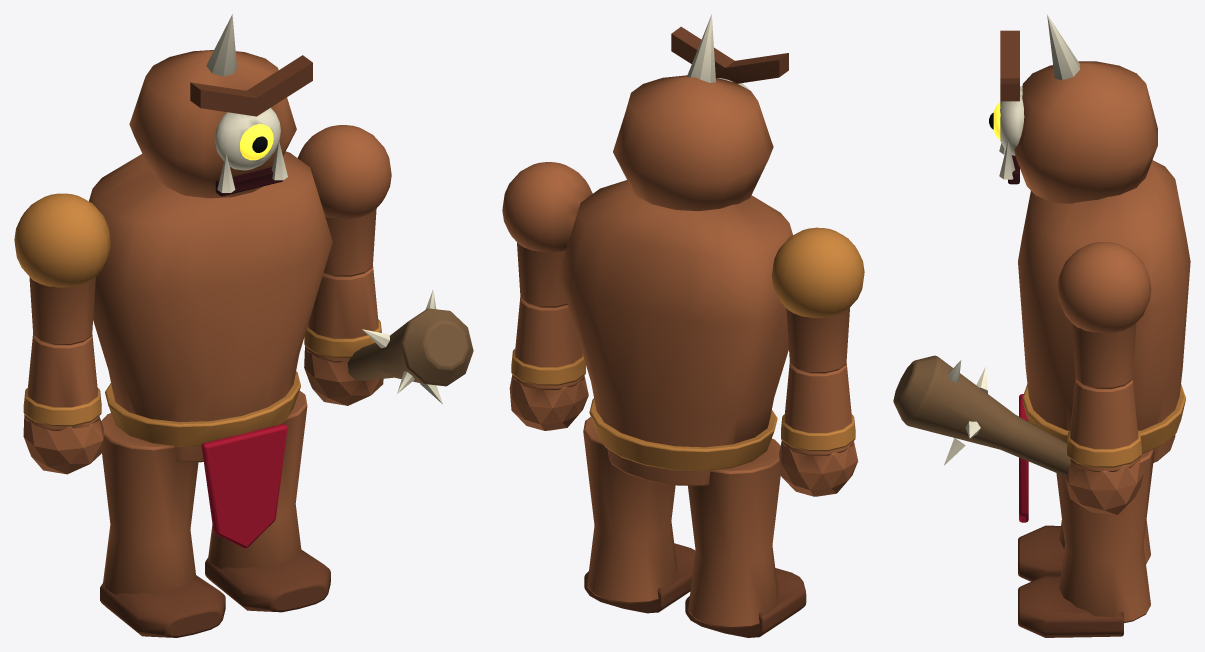
The model's file is alien_cyclops.glb.
The picture shows the model from 3 angles, left to right: view 1: azimuth 30°, elevation 25°; view 2: azimuth 150°, elevation 25°; view 3: azimuth 270°, elevation 25°; orthographic projection. The views are drawn at different scales.
Parts seen in each view (by area): view 1: body, thigh, skull, loincloth, shoulder, shoulder.001, club.001, thigh.001, foot.001, foot, forearm, belt (+12 smaller); view 2: body, skull, thigh, thigh.001, shoulder, shoulder.001, belt, forearm, forearm.001, upper, fist, fist.001 (+7 smaller); view 3: body, skull, thigh.001, club.001, shoulder.001, forearm.001, foot.001, upper.001, fist.001, foot, belt, band.001 (+4 smaller).
Part boxes in pixels (x1,y1,x2,y2): body: [89, 151, 332, 462]; thigh: [101, 413, 198, 594]; skull: [129, 50, 296, 198]; loincloth: [201, 424, 287, 548]; shoulder: [14, 193, 110, 287]; shoulder.001: [297, 125, 391, 219]; club.001: [347, 308, 473, 386]; thigh.001: [208, 390, 307, 568]; foot.001: [205, 549, 330, 612]; foot: [100, 575, 225, 637]; forearm: [25, 334, 99, 430]; belt: [105, 371, 300, 446]; body: [559, 180, 792, 485]; skull: [613, 75, 773, 211]; thigh: [688, 438, 780, 628]; thigh.001: [583, 417, 677, 603]; shoulder: [772, 227, 864, 318]; shoulder.001: [502, 162, 592, 252]; belt: [589, 398, 777, 471]; forearm: [782, 362, 853, 455]; forearm.001: [513, 298, 584, 389]; upper: [786, 308, 849, 373]; fist: [779, 440, 857, 496]; fist.001: [509, 374, 588, 430]; body: [1018, 160, 1190, 462]; skull: [1014, 61, 1157, 203]; thigh.001: [1056, 449, 1154, 622]; club.001: [893, 355, 1070, 476]; shoulder.001: [1057, 242, 1151, 333]; forearm.001: [1070, 378, 1139, 471]; foot.001: [1018, 575, 1123, 637]; upper.001: [1072, 323, 1136, 388]; fist.001: [1064, 461, 1143, 514]; foot: [1018, 525, 1064, 581]; belt: [1022, 384, 1185, 453]; band.001: [1067, 430, 1141, 467].
Size of the model in its own units: 2.14 by 3.29 by 1.51.
